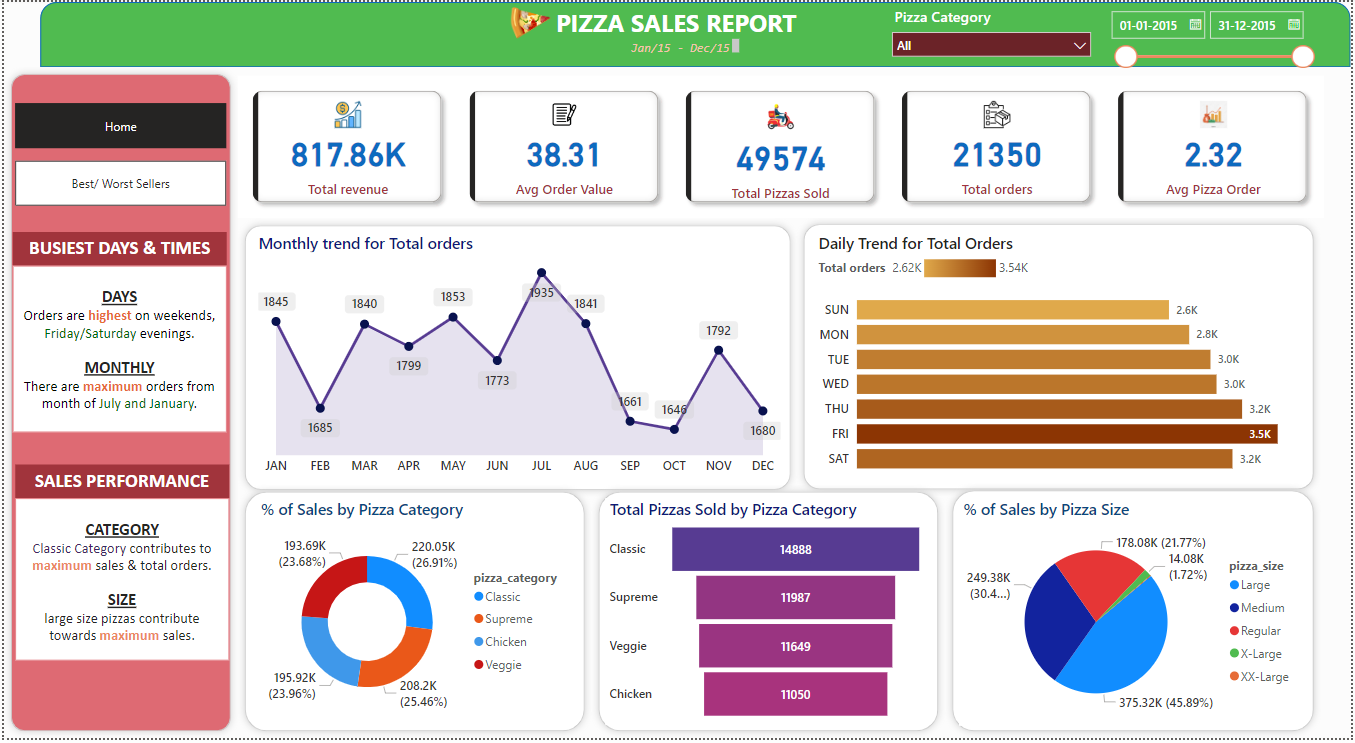

The dashboard page shown, as its layout file describes it:
{"tool":"powerbi","page":{"name":"Home","canvas":[1500,820],"ordinal":0},"visuals":[{"type":"shape","box":[882.9,240,584.3,311.4],"z":0},{"type":"shape","box":[0,72.4,260.4,747.9],"z":1000},{"type":"cardVisual","fields":{"Data":["pizza_sales.Total revenue","pizza_sales.Avg Order Value","pizza_sales.Total Pizzas Sold","pizza_sales.Total orders","pizza_sales.Avg Pizza Order"]},"box":[260,82.9,1210,158.6],"z":2000},{"type":"shape","box":[40.6,0,1459.7,72.5],"z":3000},{"type":"textbox","box":[595.3,0,308.3,47.1],"z":4000},{"type":"textbox","box":[694,36.4,130.6,25.8],"z":5000},{"type":"image","box":[560.3,0,54.7,47.1],"z":6000},{"type":"shape","box":[260.4,240.9,623.9,310.6],"z":7000},{"type":"clusteredBarChart","title":"Daily Trend for Total Orders ","fields":{"Category":["pizza_sales.Order Day"],"Y":["pizza_sales.Total orders"]},"box":[902.9,255.7,545.7,280],"z":8000},{"type":"areaChart","title":"Monthly trend for Total orders","fields":{"Category":["pizza_sales.Order Month"],"Y":["pizza_sales.Total orders"]},"box":[278.5,256.3,591.9,279.9],"z":9000},{"type":"shape","box":[260.1,537.2,394.4,282.9],"z":10000},{"type":"shape","box":[654.3,537.1,394.3,282.9],"z":11000},{"type":"shape","box":[1048.6,535.7,418.6,284.3],"z":12000},{"type":"donutChart","title":"% of Sales by Pizza Category","fields":{"Category":["pizza_sales.pizza_category"],"Y":["pizza_sales.Total revenue"]},"box":[281.5,553,355.8,252.9],"z":13000},{"type":"pieChart","title":"% of Sales by Pizza Size","fields":{"Y":["pizza_sales.Total revenue"],"Category":["pizza_sales.pizza_size"]},"box":[1064,552.9,385.8,253.5],"z":14000},{"type":"funnel","title":"Total Pizzas Sold by Pizza Category","fields":{"Category":["pizza_sales.pizza_category"],"Y":["pizza_sales.Total Pizzas Sold"]},"box":[670,552.9,360,252.9],"z":15000},{"type":"textbox","box":[9.7,256.3,238.1,37.6],"z":16000},{"type":"textbox","box":[9.7,293.9,238.1,185.2],"z":17000},{"type":"textbox","box":[12.5,515.3,238.1,37.6],"z":18000},{"type":"textbox","box":[12.9,552.7,238.3,180.9],"z":19000},{"type":"slicer","fields":{"Values":["pizza_sales.pizza_category"]},"box":[979.4,0,242.3,72.5],"z":20000},{"type":"slicer","fields":{"Values":["pizza_sales.order_date"]},"box":[1221.8,0,246.9,83.3],"z":21000},{"type":"pageNavigator","box":[12.5,112.8,235.4,50.1],"z":22000},{"type":"pageNavigator","box":[12.5,176.9,235.4,50.1],"z":23000}]}

Visuals, with their boxes in screenshot pixels (x1, y1, x2, y2), scaled from the page's 1500x820 canvas onto the 1355x743 screenshot:
shape: (left=798, top=217, right=1325, bottom=500)
shape: (left=0, top=66, right=235, bottom=742)
cardVisual - pizza_sales.Total revenue x pizza_sales.Avg Order Value: (left=235, top=75, right=1328, bottom=219)
shape: (left=37, top=0, right=1354, bottom=66)
textbox: (left=538, top=0, right=816, bottom=43)
textbox: (left=627, top=33, right=745, bottom=56)
image: (left=506, top=0, right=556, bottom=43)
shape: (left=235, top=218, right=799, bottom=500)
"Daily Trend for Total Orders " clusteredBarChart: (left=816, top=232, right=1309, bottom=485)
"Monthly trend for Total orders" areaChart: (left=252, top=232, right=786, bottom=486)
shape: (left=235, top=487, right=591, bottom=742)
shape: (left=591, top=487, right=947, bottom=742)
shape: (left=947, top=485, right=1325, bottom=742)
"% of Sales by Pizza Category" donutChart: (left=254, top=501, right=576, bottom=730)
"% of Sales by Pizza Size" pieChart: (left=961, top=501, right=1310, bottom=731)
"Total Pizzas Sold by Pizza Category" funnel: (left=605, top=501, right=930, bottom=730)
textbox: (left=9, top=232, right=224, bottom=266)
textbox: (left=9, top=266, right=224, bottom=434)
textbox: (left=11, top=467, right=226, bottom=501)
textbox: (left=12, top=501, right=227, bottom=665)
slicer - pizza_sales.pizza_category: (left=885, top=0, right=1104, bottom=66)
slicer - pizza_sales.order_date: (left=1104, top=0, right=1327, bottom=75)
pageNavigator: (left=11, top=102, right=224, bottom=148)
pageNavigator: (left=11, top=160, right=224, bottom=206)
